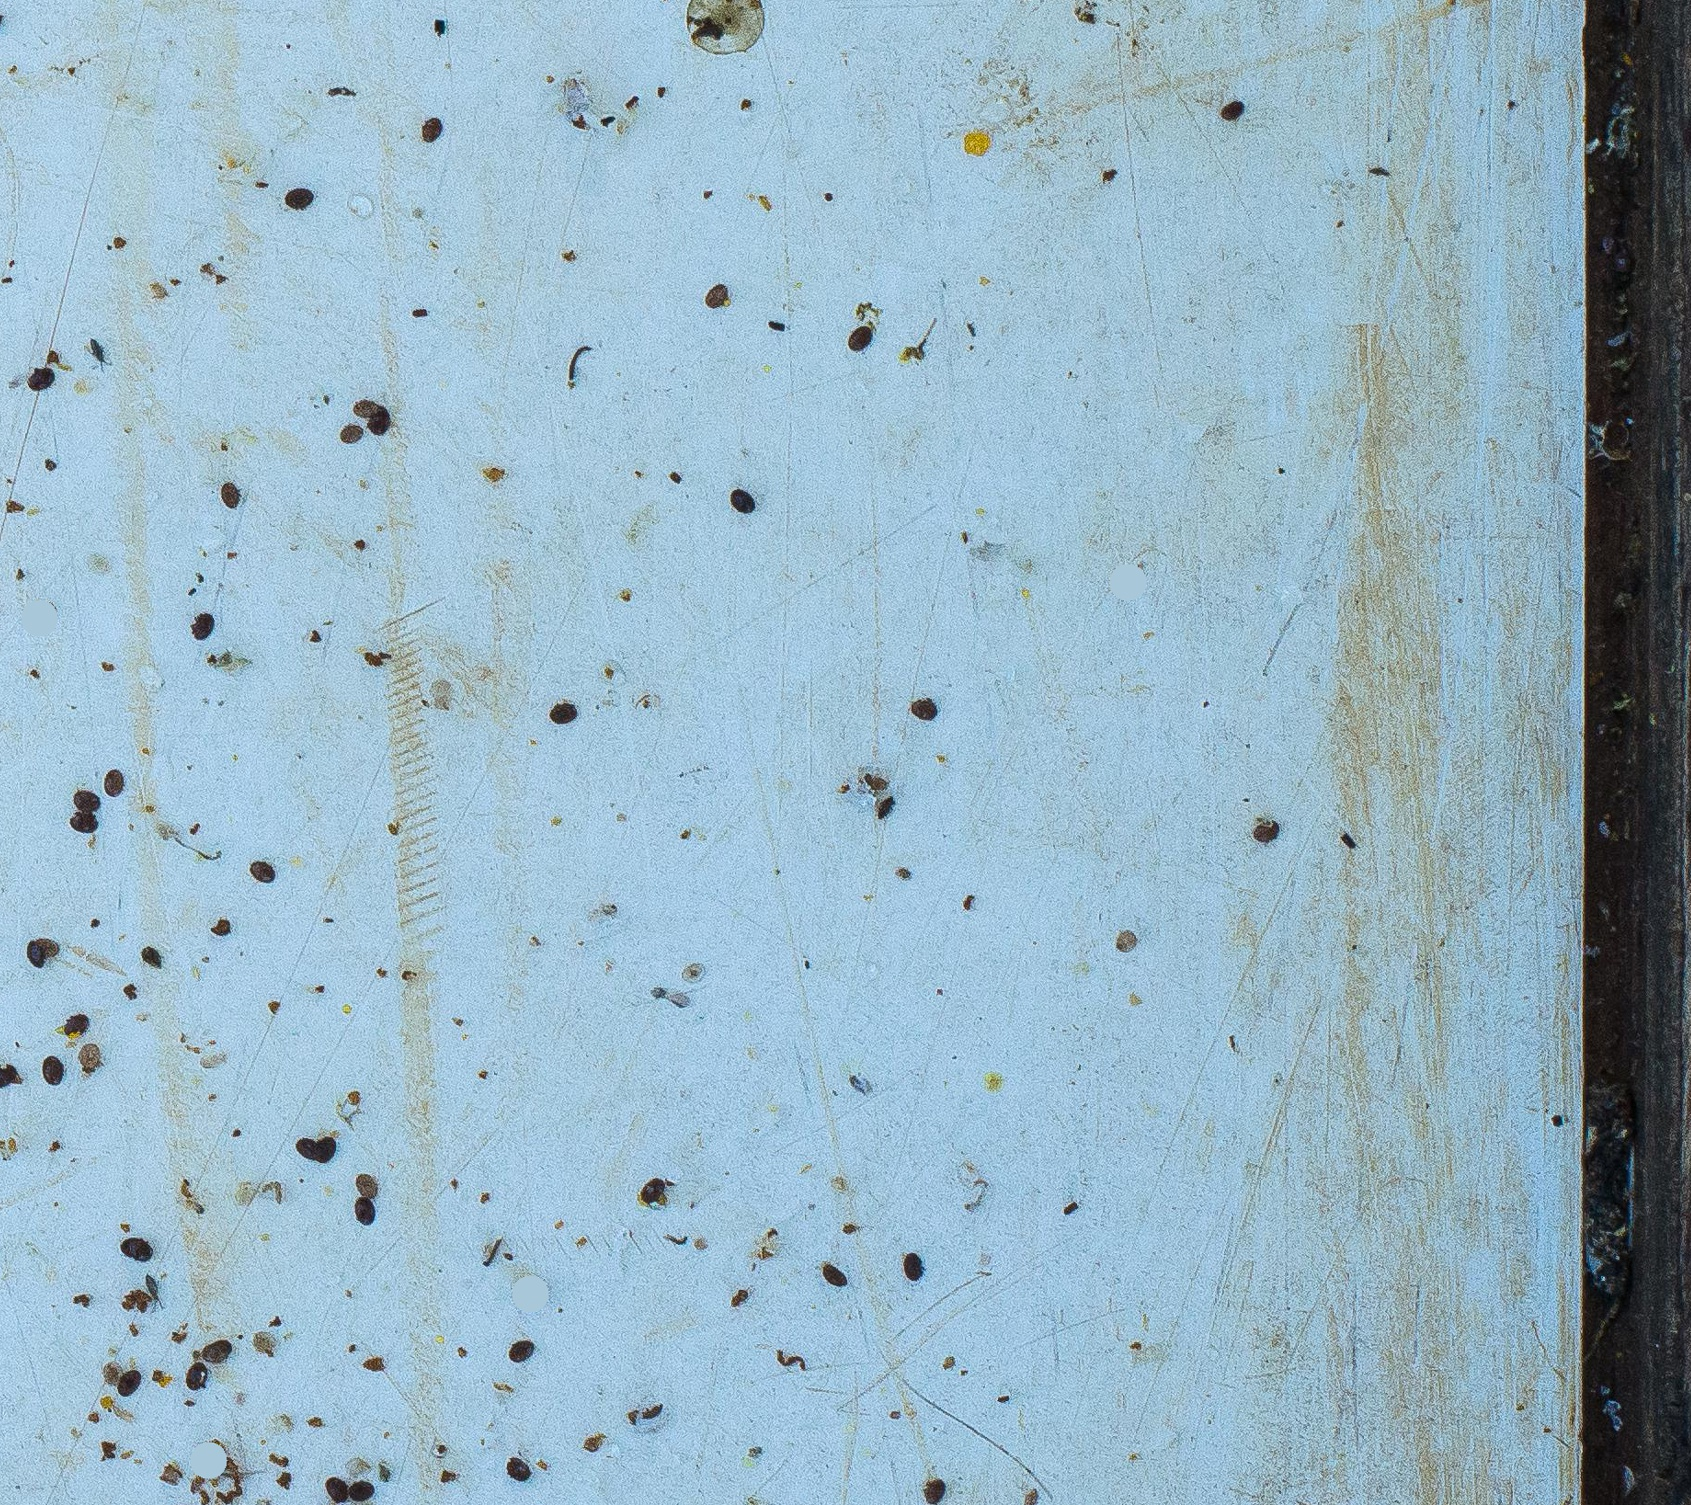Varroa: (633, 1169, 674, 1210), (346, 389, 386, 429), (70, 1039, 110, 1078), (333, 413, 372, 452), (68, 780, 108, 819), (55, 1007, 94, 1044), (500, 1448, 536, 1485), (902, 691, 938, 726), (67, 808, 102, 843), (282, 179, 315, 212), (1252, 816, 1286, 850), (413, 110, 445, 145), (184, 610, 216, 644), (507, 1334, 539, 1367), (179, 1366, 211, 1397), (22, 934, 52, 967), (121, 1233, 153, 1264), (697, 277, 728, 309), (25, 362, 55, 394), (247, 856, 277, 888), (205, 1331, 235, 1363), (546, 696, 577, 726), (1217, 97, 1246, 129), (819, 1257, 848, 1289), (97, 770, 126, 800), (728, 484, 757, 514), (893, 1254, 924, 1283), (36, 1056, 65, 1087), (352, 1196, 381, 1225), (116, 1370, 145, 1399), (352, 1169, 381, 1198), (216, 481, 244, 510), (346, 1473, 373, 1501), (845, 322, 872, 352)
